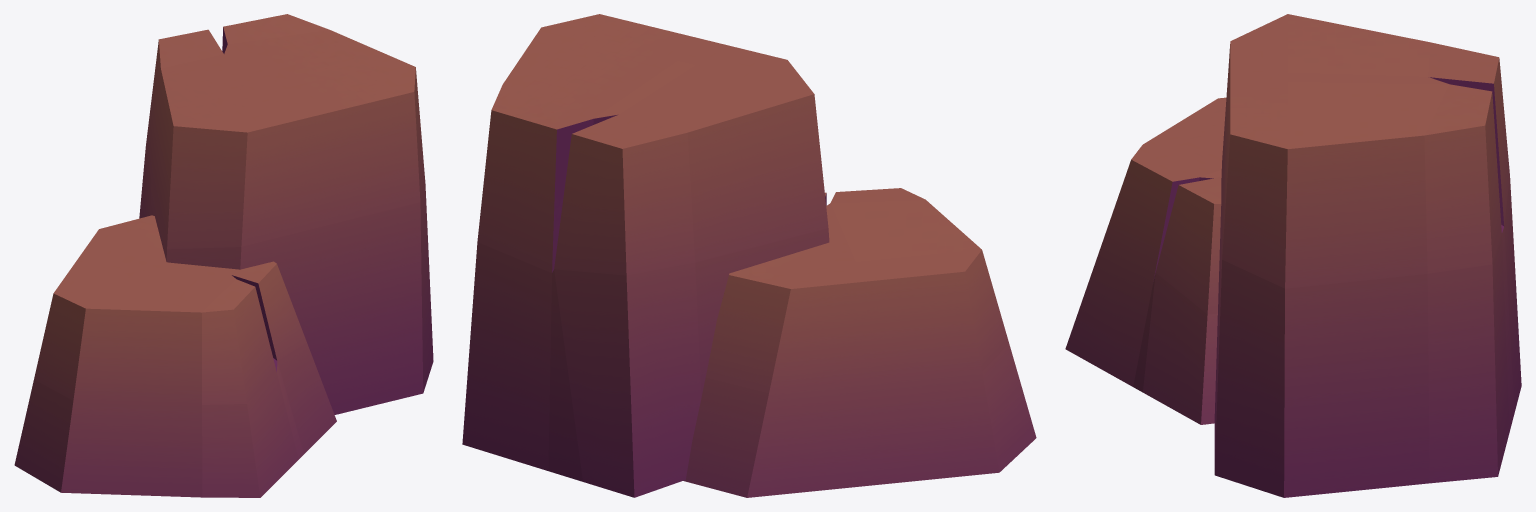
Rendered from SM_Props_Rock.fbx.
The picture shows the model from 3 angles, left to right: view 1: azimuth 30°, elevation 25°; view 2: azimuth 150°, elevation 25°; view 3: azimuth 270°, elevation 25°; orthographic projection. The views are drawn at different scales.
Visible parts, largest first — view 1: Batu; view 2: Batu; view 3: Batu.
Part boxes in pixels (left/top/right/bottom): Batu: left=14, top=14, right=433, bottom=497; Batu: left=462, top=14, right=1036, bottom=497; Batu: left=1065, top=14, right=1521, bottom=497.
Bounding box in the file's own units: 183 × 124 × 151.
1 material, 1 textured.
